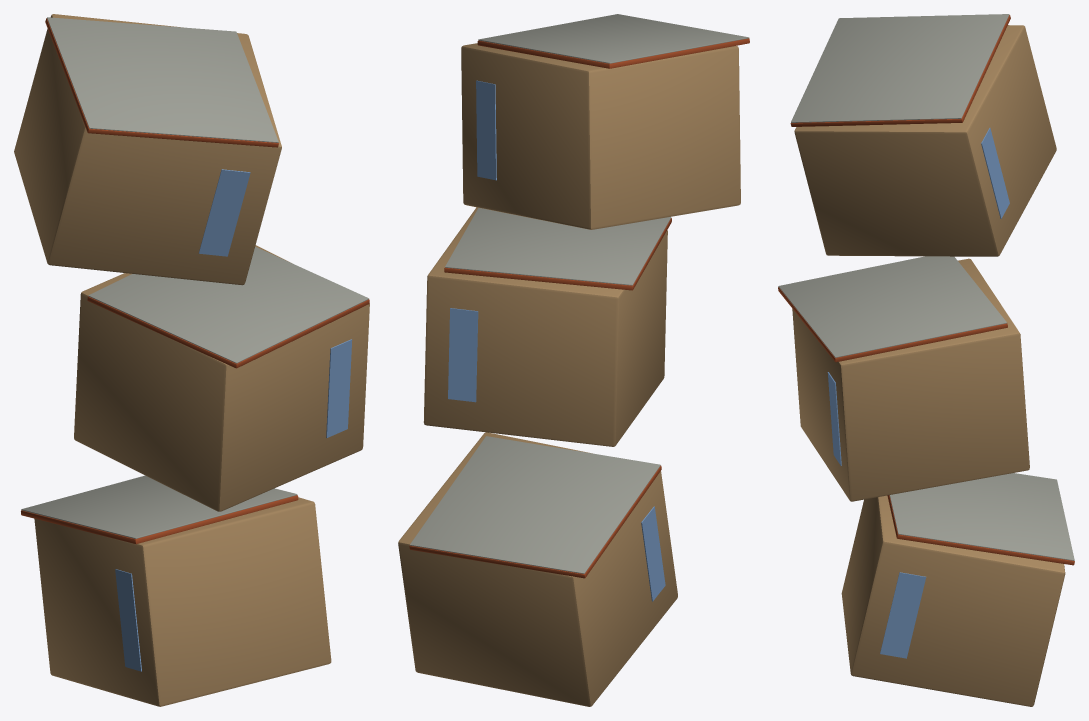
File: REV-CER-001_anim.glb
The picture shows the model from 3 angles, left to right: view 1: azimuth 30°, elevation 25°; view 2: azimuth 150°, elevation 25°; view 3: azimuth 270°, elevation 25°; orthographic projection. The views are drawn at different scales.
Parts seen in each view (by area): view 1: REV-CER-001_anim2, REV-CER-001_anim1, REV-CER-001_anim0; view 2: REV-CER-001_anim0, REV-CER-001_anim2, REV-CER-001_anim1; view 3: REV-CER-001_anim2, REV-CER-001_anim1, REV-CER-001_anim0.
Boxes of the visible parts, x1=… form: REV-CER-001_anim2: x1=14, y1=14, x2=281, y2=285; REV-CER-001_anim1: x1=74, y1=245, x2=369, y2=511; REV-CER-001_anim0: x1=21, y1=475, x2=331, y2=706; REV-CER-001_anim0: x1=398, y1=432, x2=677, y2=706; REV-CER-001_anim2: x1=461, y1=14, x2=749, y2=229; REV-CER-001_anim1: x1=423, y1=207, x2=671, y2=446; REV-CER-001_anim2: x1=790, y1=14, x2=1056, y2=256; REV-CER-001_anim1: x1=778, y1=256, x2=1029, y2=501; REV-CER-001_anim0: x1=841, y1=473, x2=1074, y2=706.
Bounding box in the file's own units: 0.3437 × 0.7377 × 0.3254.
6 materials, 4 textured.
